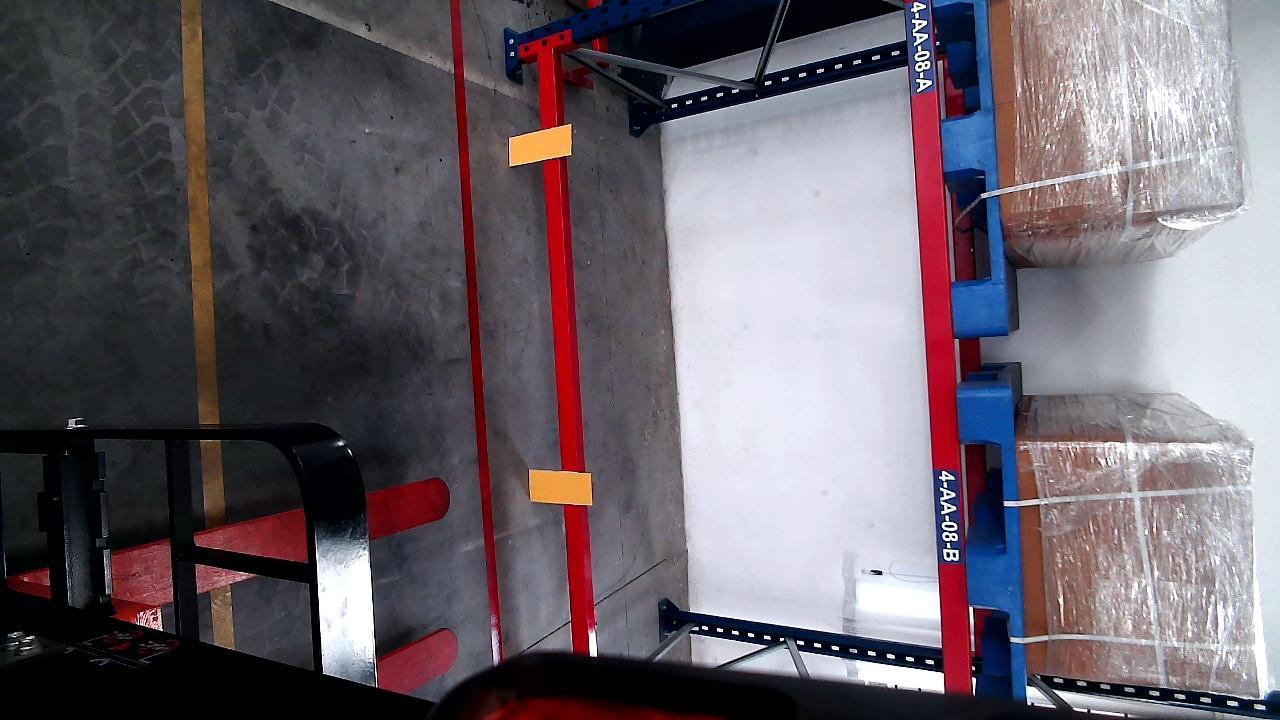red_line: (449, 2, 503, 665)
